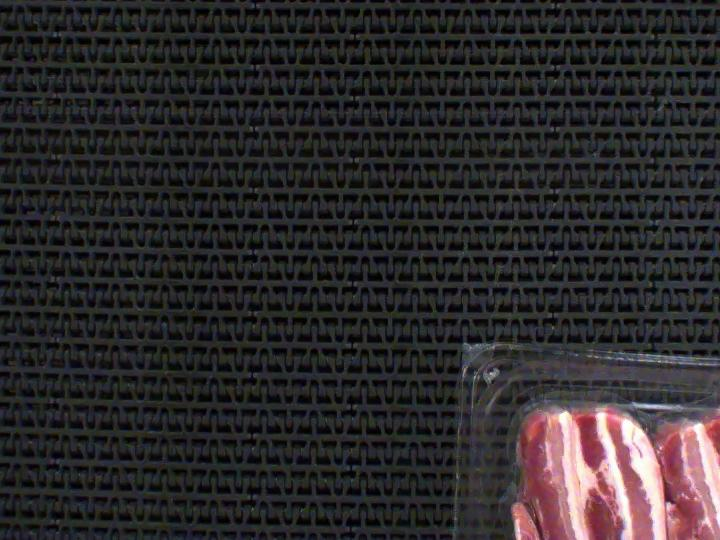packaging-error: (673, 380, 720, 419)
unsealed: (500, 378, 720, 493)
